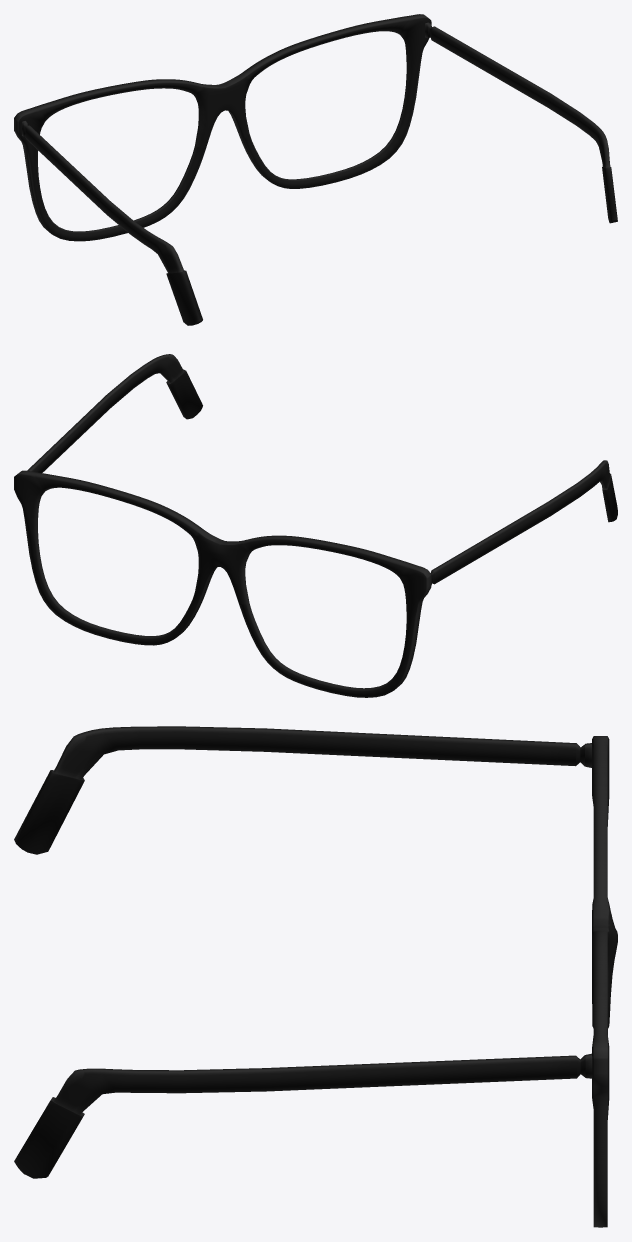
The picture shows the model from 3 angles, top to bottom: view 1: azimuth 30°, elevation 25°; view 2: azimuth 150°, elevation 25°; view 3: azimuth 270°, elevation 25°; orthographic projection. The views are drawn at different scales.
Visible parts, largest first — view 1: geometry_0; view 2: geometry_0; view 3: geometry_0.
Boxes of the visible parts, bbox=[...] form: geometry_0: bbox=[14, 14, 617, 325]; geometry_0: bbox=[14, 354, 617, 697]; geometry_0: bbox=[14, 726, 617, 1227].
Bounding box in the file's own units: 1.22 × 0.3825 × 0.8962.
1 material, 1 textured.
